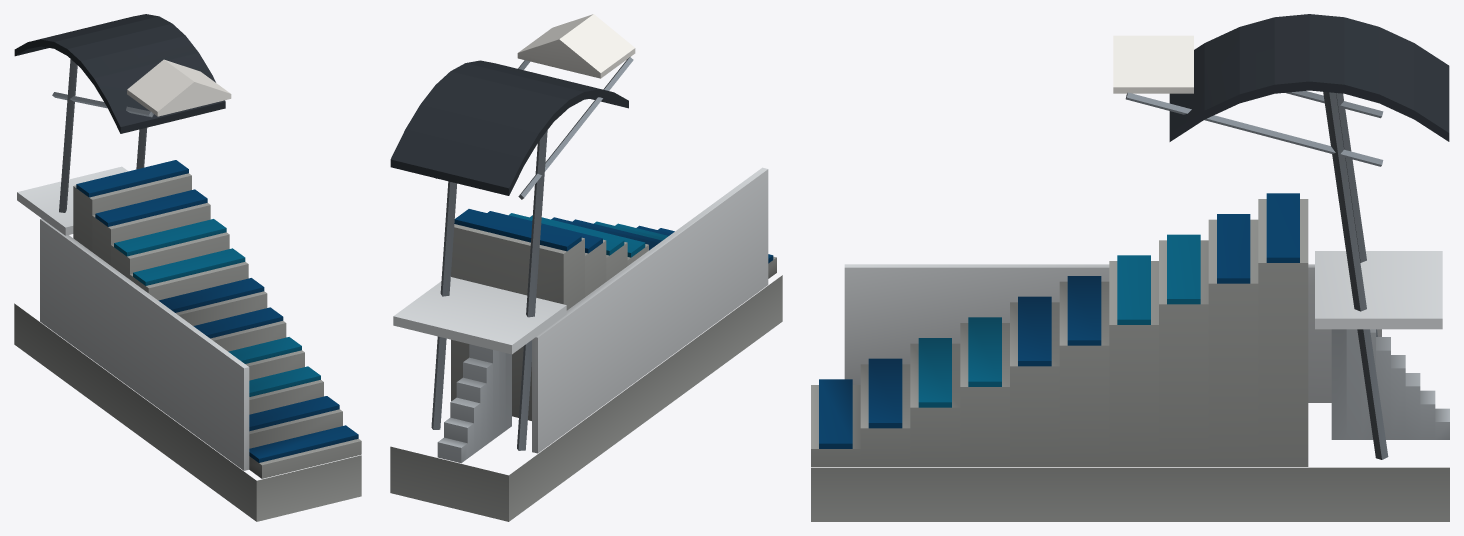
Rendered from grandstand-end-cap.glb.
The picture shows the model from 3 angles, left to right: view 1: azimuth 30°, elevation 25°; view 2: azimuth 150°, elevation 25°; view 3: azimuth 270°, elevation 25°; orthographic projection. The views are drawn at different scales.
Visible parts, largest first — view 1: grandstand-end-cap; view 2: grandstand-end-cap; view 3: grandstand-end-cap.
Boxes of the visible parts, x1,y1,x2,y2 form: grandstand-end-cap: (14, 14, 361, 521); grandstand-end-cap: (390, 14, 782, 521); grandstand-end-cap: (811, 14, 1449, 521).
Bounding box in the file's own units: 8 × 25 × 32.
